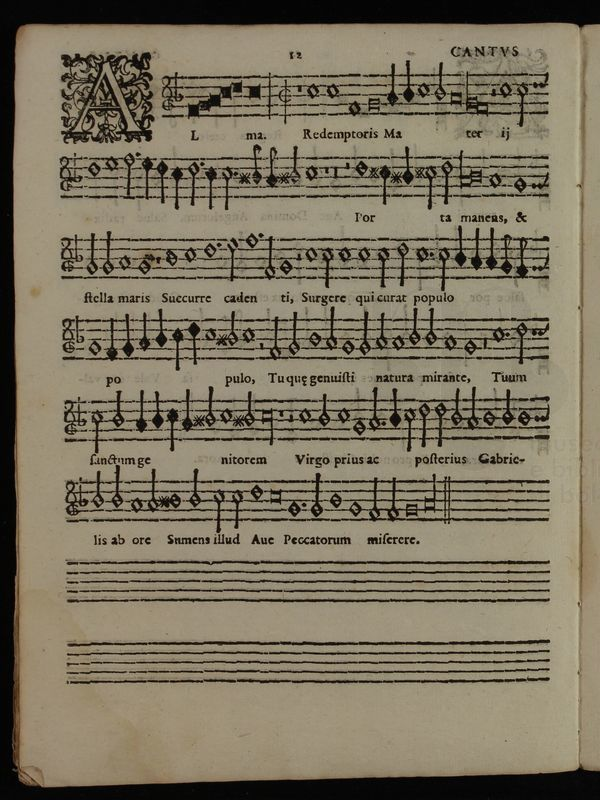barline: (439, 471, 455, 524)
breve_7: (265, 482, 286, 509)
breve_9: (401, 496, 420, 521)
flat_7: (76, 481, 87, 508)
g clef_9: (62, 476, 77, 522)
longa_8: (420, 471, 440, 519)
minim_10: (366, 475, 383, 523), (385, 474, 401, 524)
minim_6: (228, 480, 246, 534), (210, 479, 226, 535)
minim_7: (186, 463, 203, 513), (108, 463, 124, 513), (90, 464, 106, 513)
minim_8: (145, 467, 159, 518)
minim_9: (308, 467, 325, 522)
point: (300, 495, 311, 515)
semibreve_5: (247, 476, 265, 505)
semibreve_7: (326, 485, 345, 515), (166, 488, 186, 513)
semibreve_8: (125, 488, 145, 519)
semibreve_9: (346, 492, 364, 522), (284, 494, 299, 522)
sharp: (155, 492, 172, 513)
